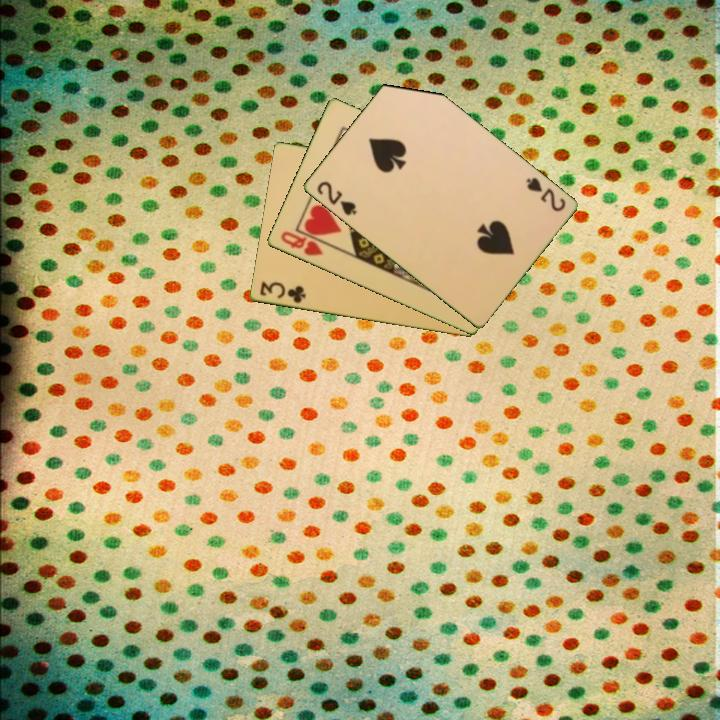2s: (313, 177, 359, 219), (522, 174, 568, 215)
3c: (256, 278, 308, 307)
Qh: (277, 228, 326, 259)
